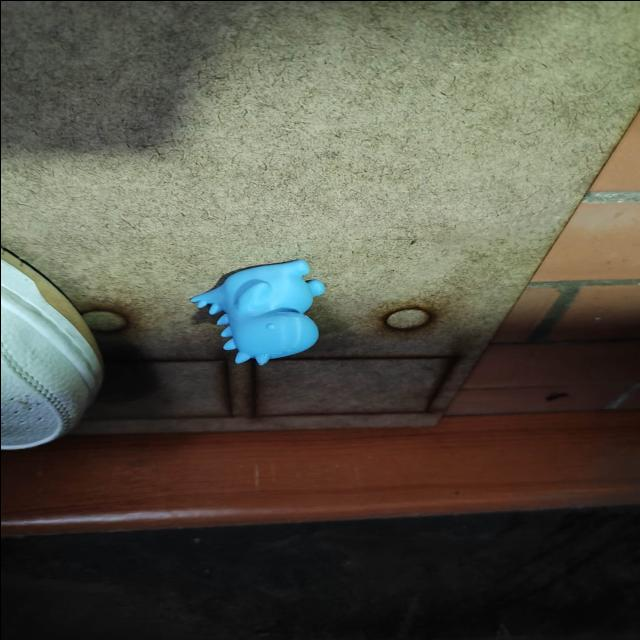DINO: (188, 250, 339, 377)
